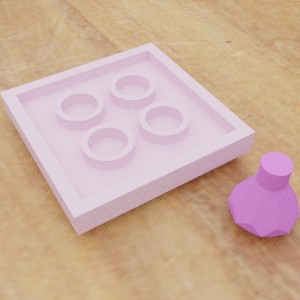lego: (0, 42, 255, 235), (227, 152, 300, 237)
